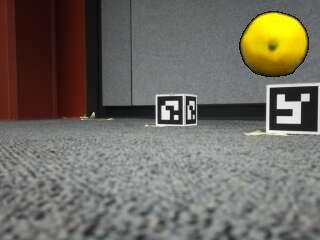lemon: (240, 12, 308, 76)
